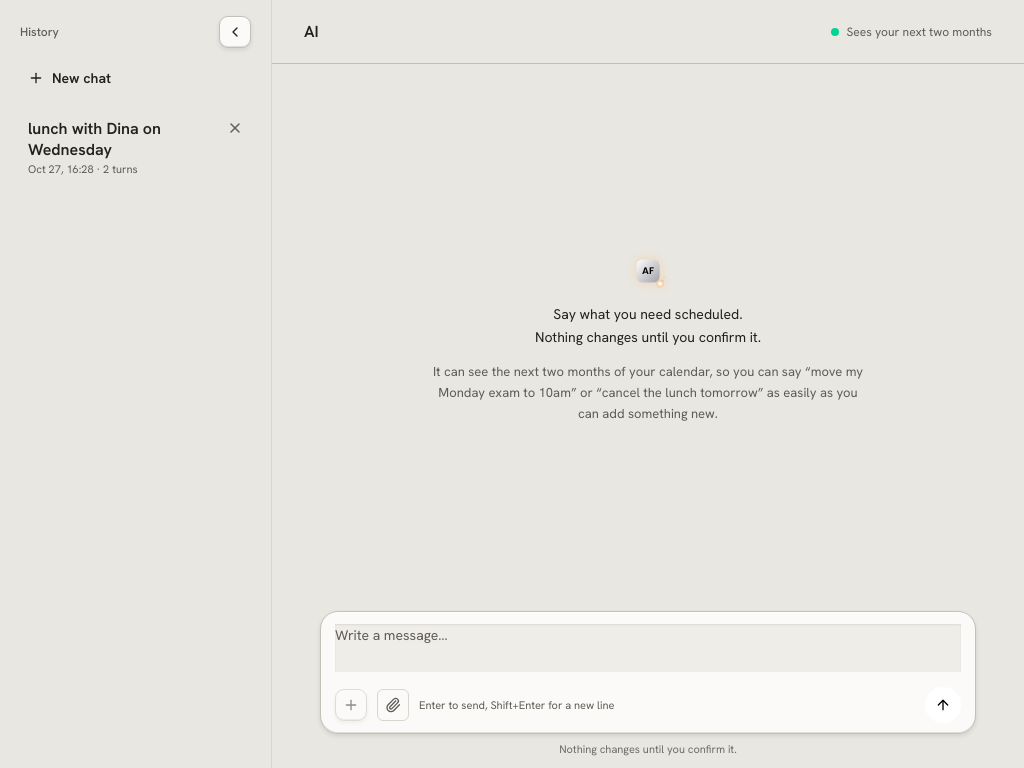
Test: screen › carries the first exchange into the second message
Click the text box with placeholder "Write a message…" at (648, 648), box [335,624,961,672]
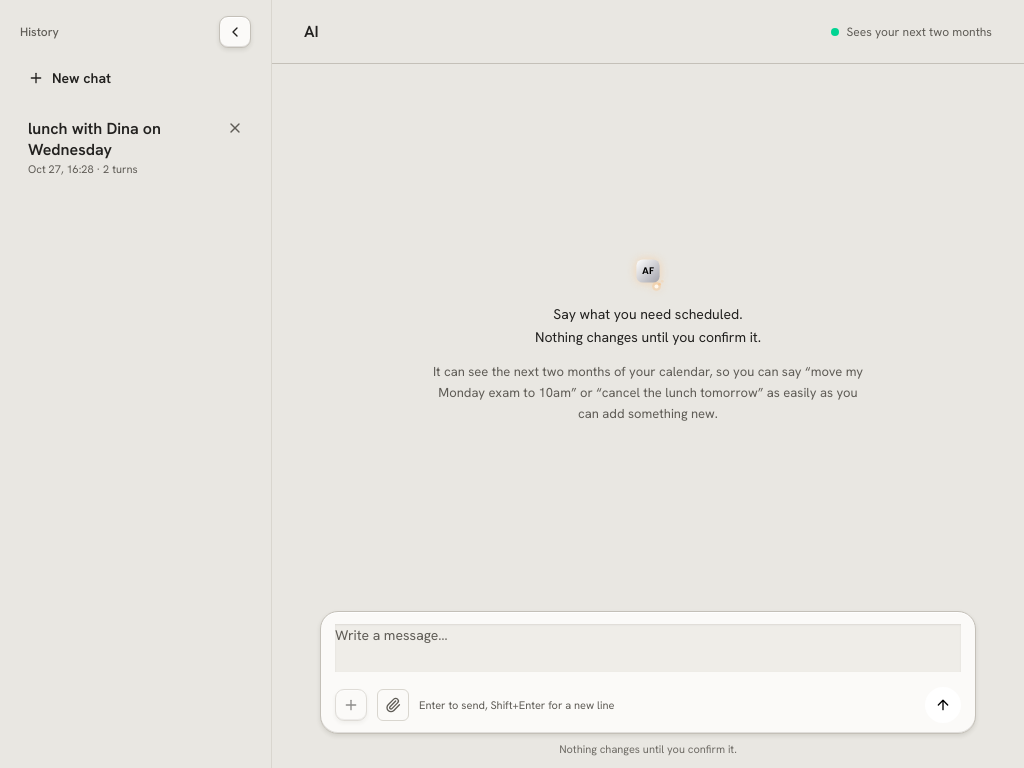
Type keys "lunch with Dina on Wednesday"
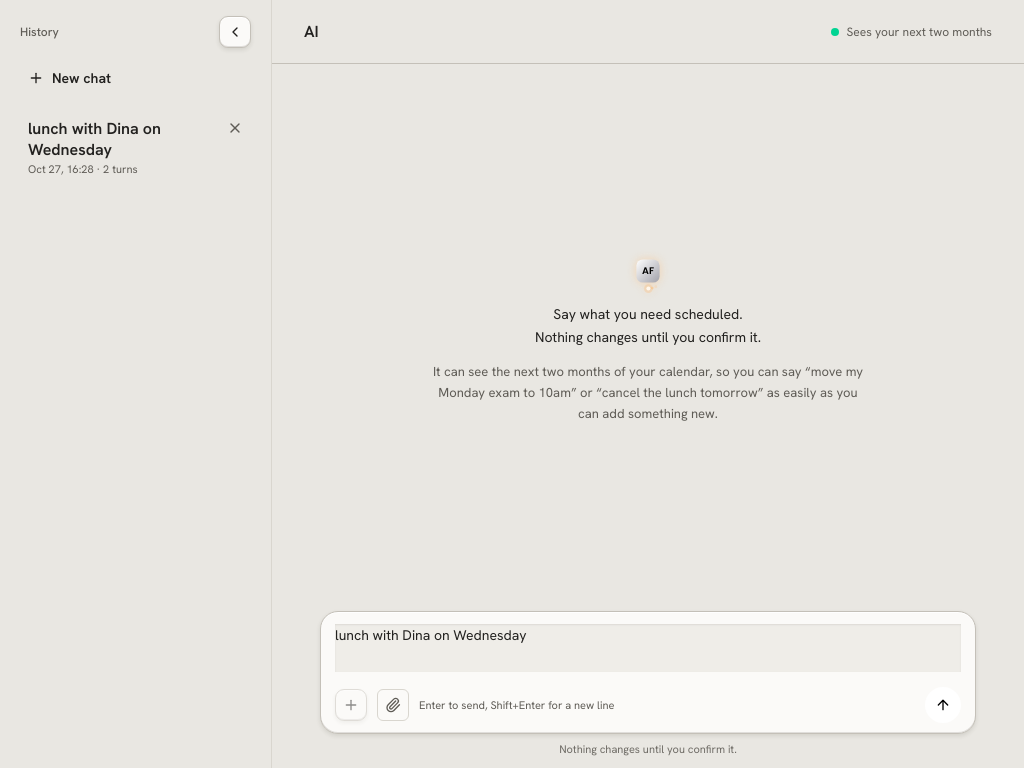
Click the button named "Send" at (943, 705), box [925,687,961,723]
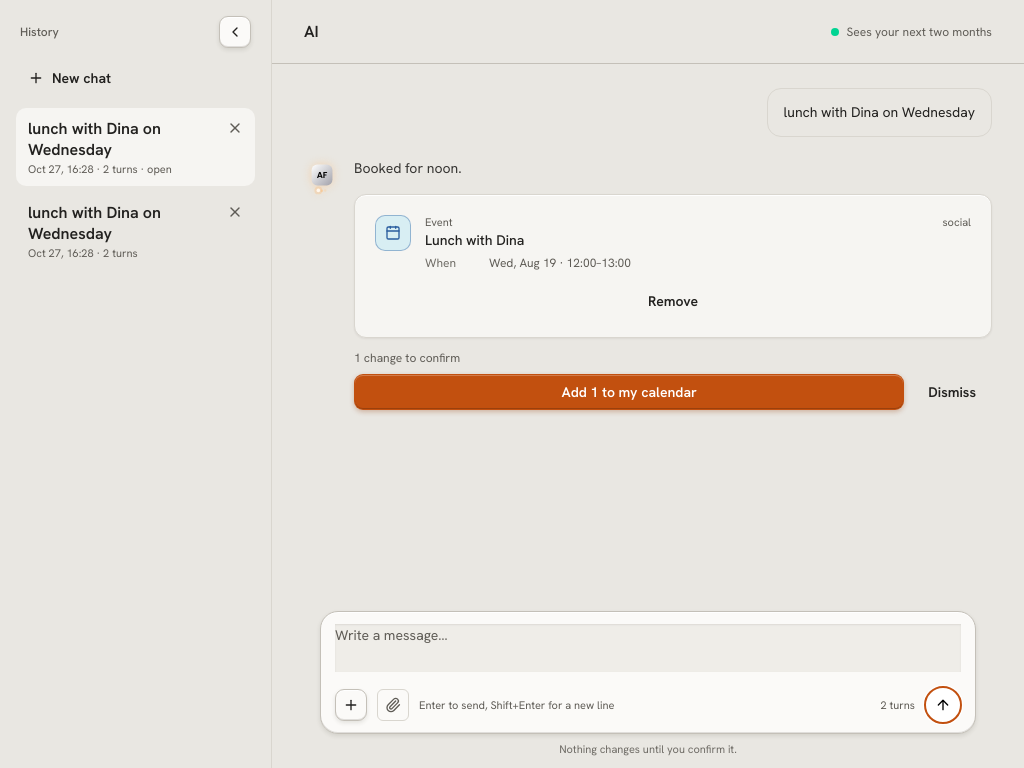
Result: the text "Booked for noon." is shown at [354,159,462,177]
Click the text box with placeholder "Write a message…" at (648, 648), box [335,624,961,672]
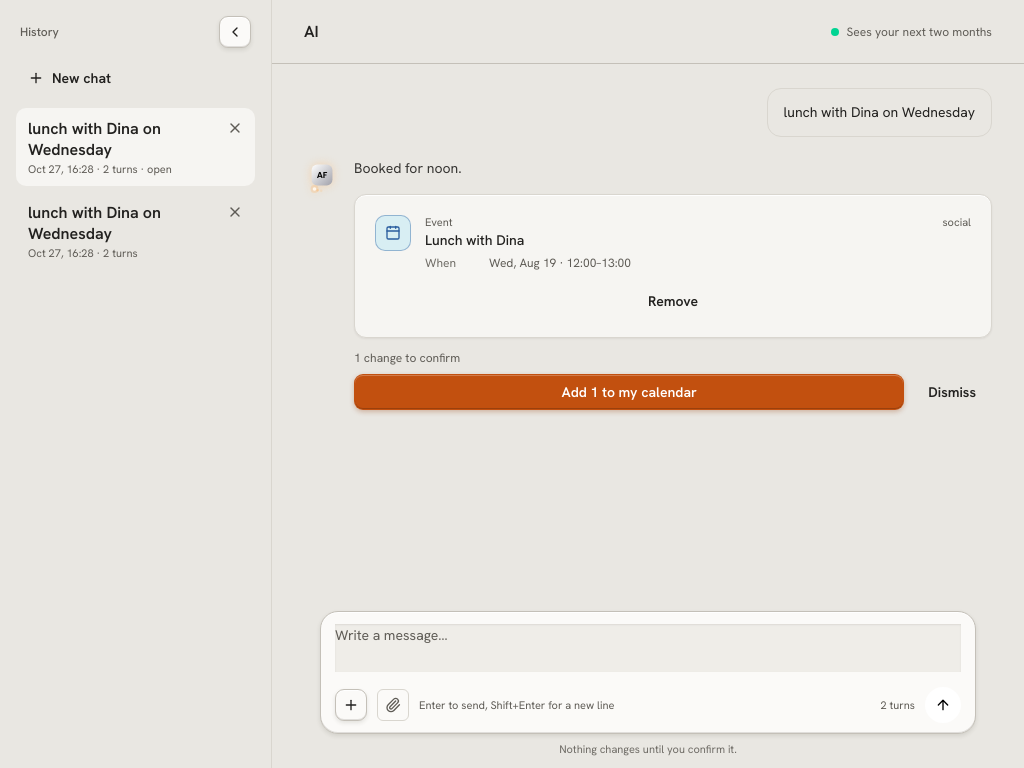
Type keys "make that 10am"
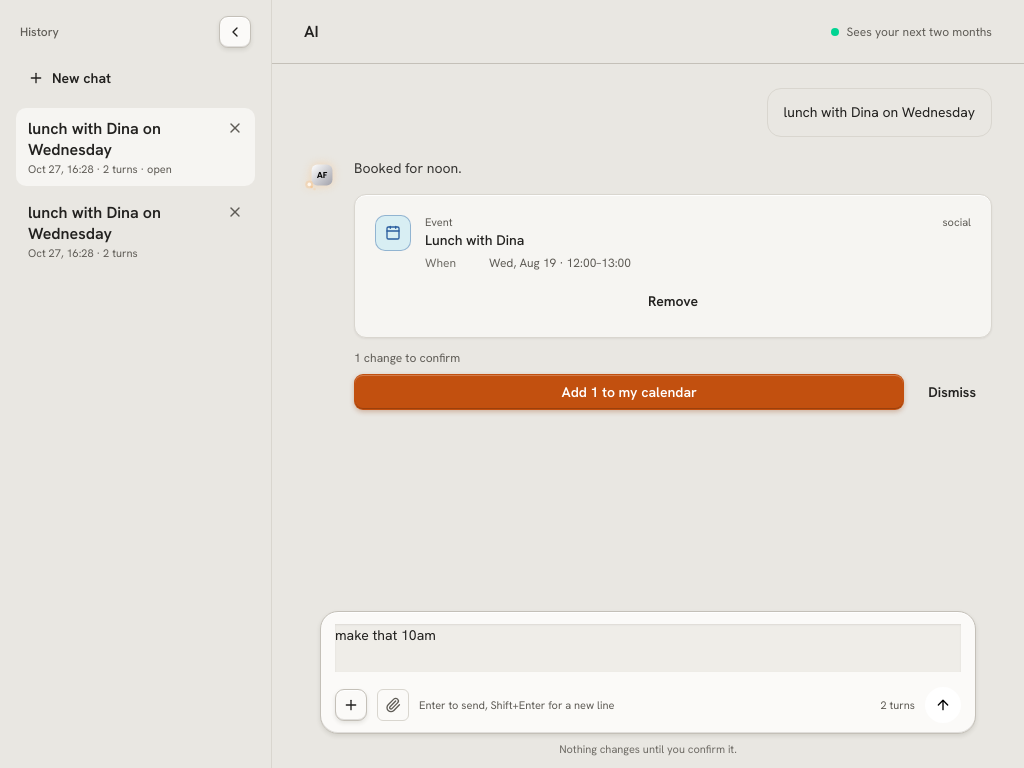
Click the button named "Send" at (943, 705), box [925,687,961,723]
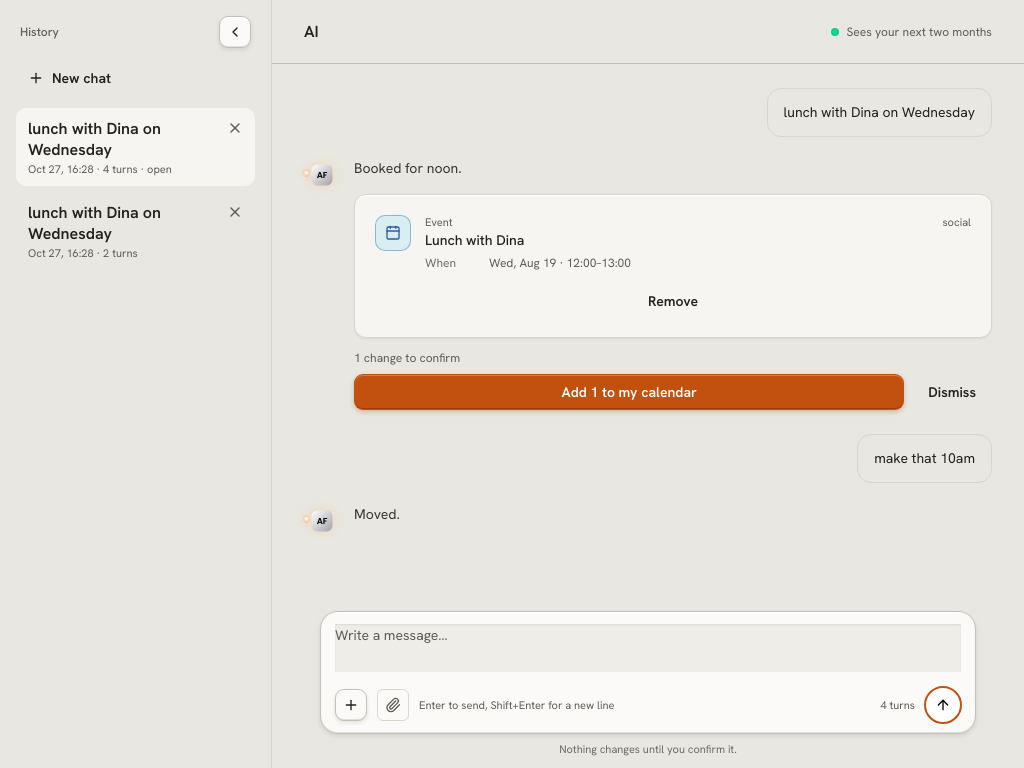
Result: the text "Booked for noon." is shown at [354,159,462,177]
Result: the text "Moved." is shown at [354,505,400,523]
